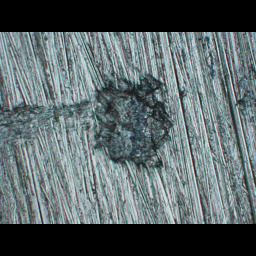d: (94, 68, 172, 171)
